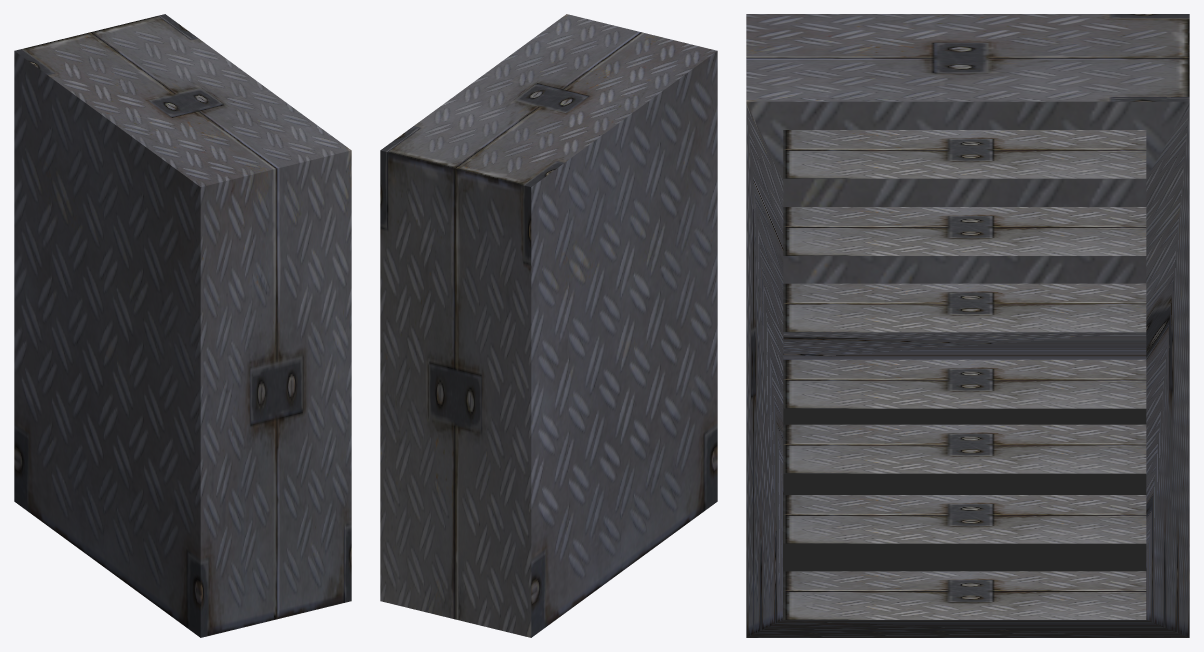
The model's file is shelf.fbx.
The picture shows the model from 3 angles, left to right: view 1: azimuth 30°, elevation 25°; view 2: azimuth 150°, elevation 25°; view 3: azimuth 270°, elevation 25°; orthographic projection. The views are drawn at different scales.
Visible parts, largest first — view 1: pCube10; view 2: pCube10; view 3: pCube10.
Boxes of the visible parts, x1,y1,x2,y2 form: pCube10: (14,14,351,637); pCube10: (380,14,717,637); pCube10: (746,14,1189,637).
Bounding box in the file's own units: 6.61 × 18.85 × 14.13.
1 material, 1 textured.
